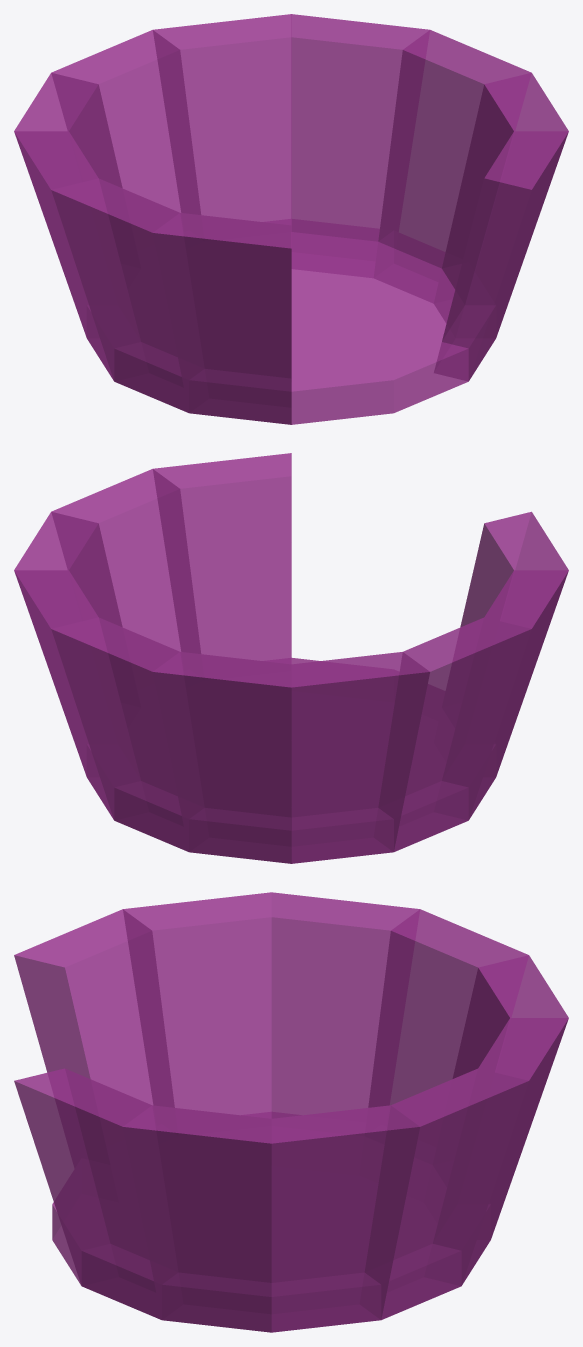
Rendered from SM_Prop_Crows_Nest_04_Collision.fbx.
The picture shows the model from 3 angles, top to bottom: view 1: azimuth 30°, elevation 25°; view 2: azimuth 150°, elevation 25°; view 3: azimuth 270°, elevation 25°; orthographic projection. The views are drawn at different scales.
Parts seen in each view (by area): view 1: SM_Prop_Crows_Nest_04_Collision; view 2: SM_Prop_Crows_Nest_04_Collision; view 3: SM_Prop_Crows_Nest_04_Collision.
Part boxes in pixels (x1,y1,x2,y2): SM_Prop_Crows_Nest_04_Collision: (14,14,568,424); SM_Prop_Crows_Nest_04_Collision: (14,453,568,863); SM_Prop_Crows_Nest_04_Collision: (14,892,568,1332).
Bounding box in the file's own units: 297 × 122 × 277.
